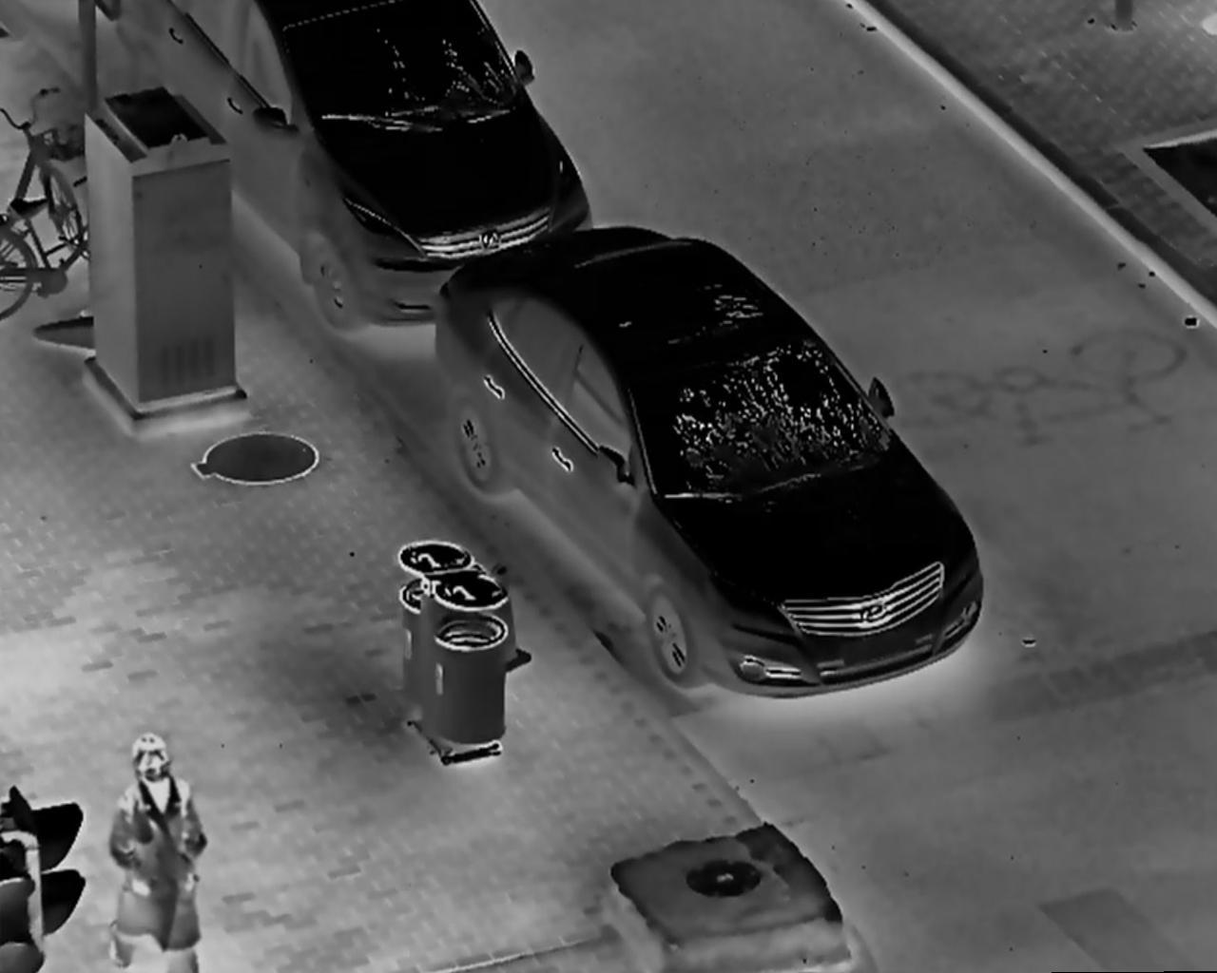person: (97, 724, 215, 973)
